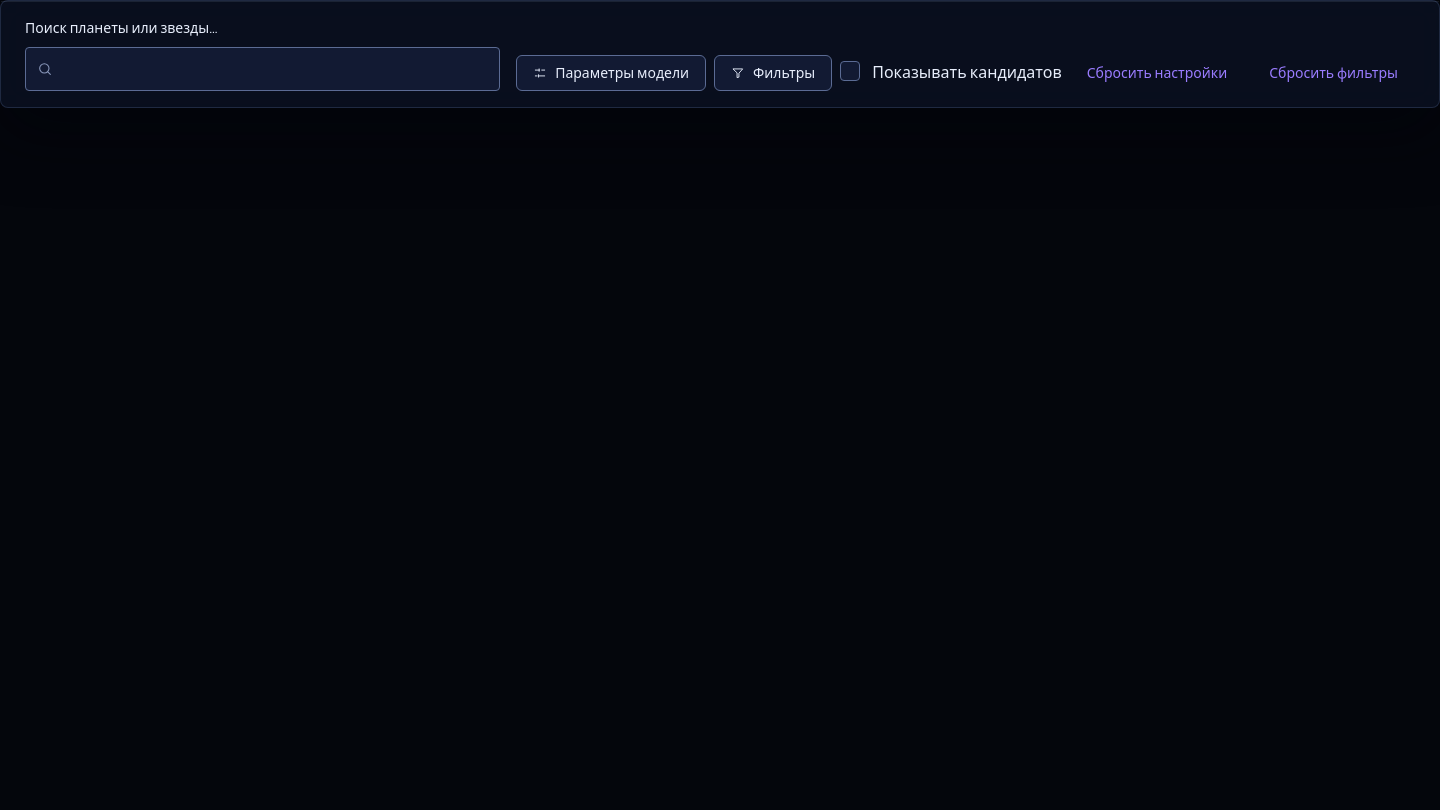
Test case: применение и бейдж › «Применить фильтры» недоступна без изменений, при ошибке и вызывает один compute
Later steps or results of the test are not shown.
Click the button "Фильтры". click: (773, 73)
box: [714,55,832,91]
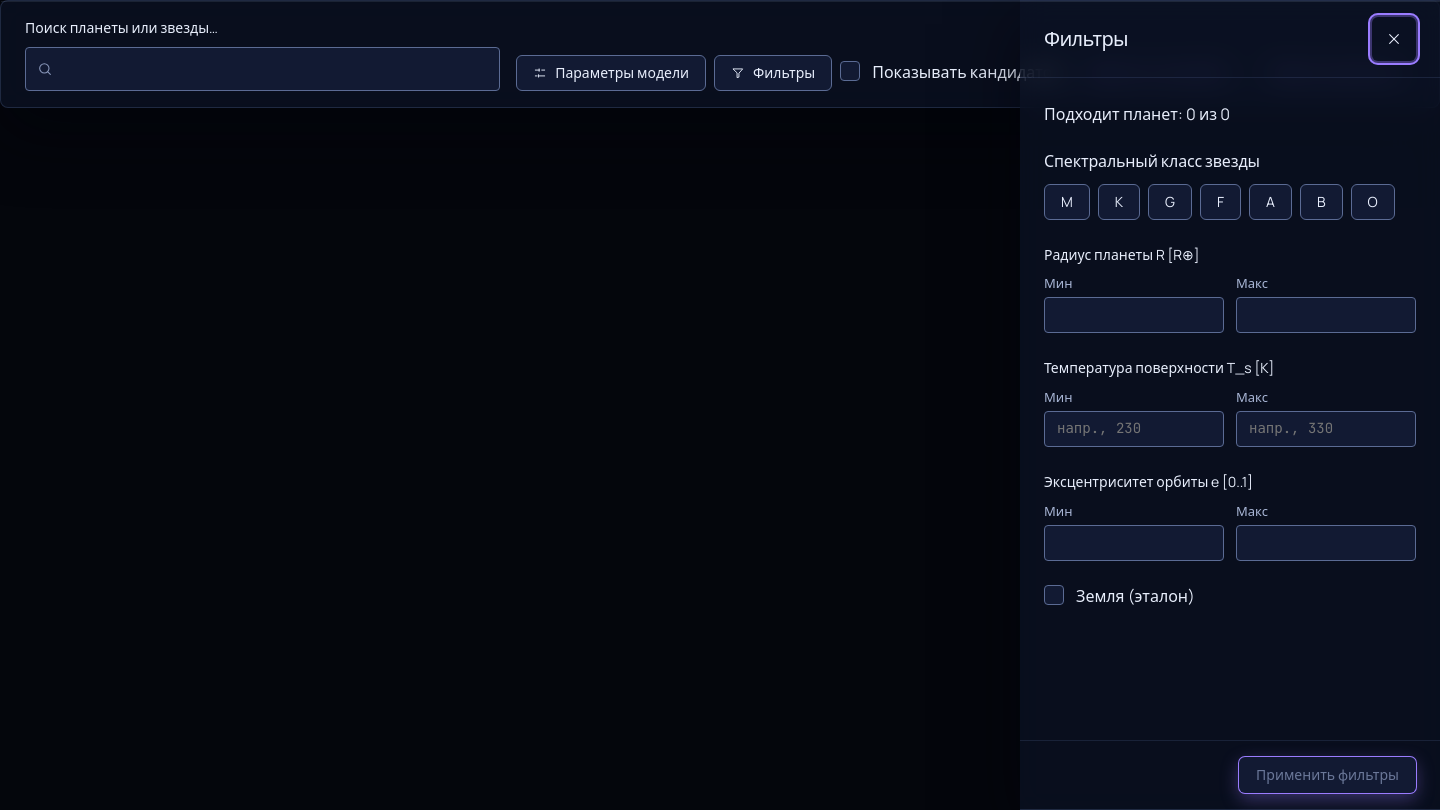
Expected: the button "Применить фильтры" is disabled, [1239,757,1416,793]
Type "1.5" into the field labelled "Мин" below "Радиус планеты R [R⊕]". click: (1134, 315)
box: [1044,297,1224,333]
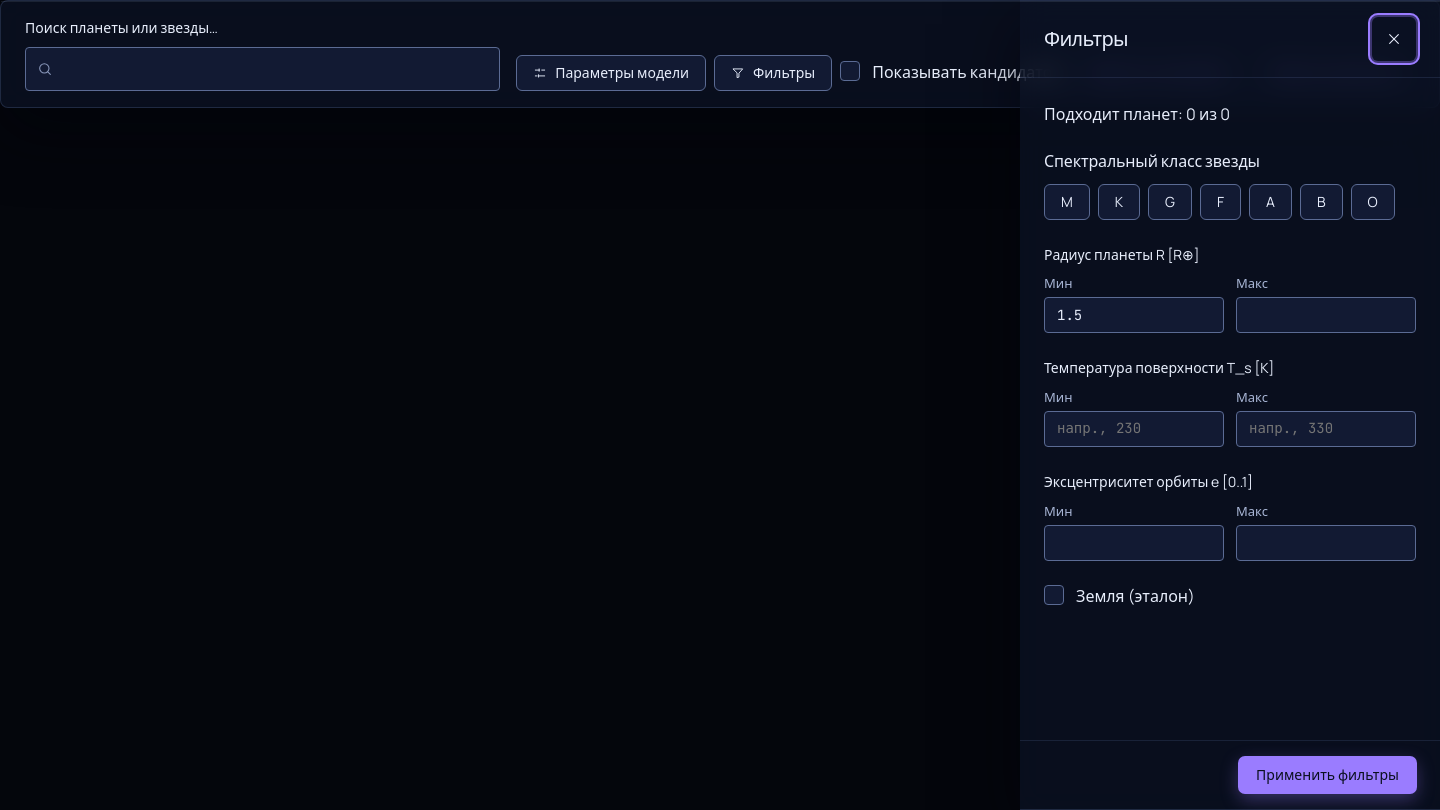
Type "330" into the field labelled "Макс" below "Температура поверхности T_s [K]". click: (1326, 429)
box: [1236,411,1416,447]
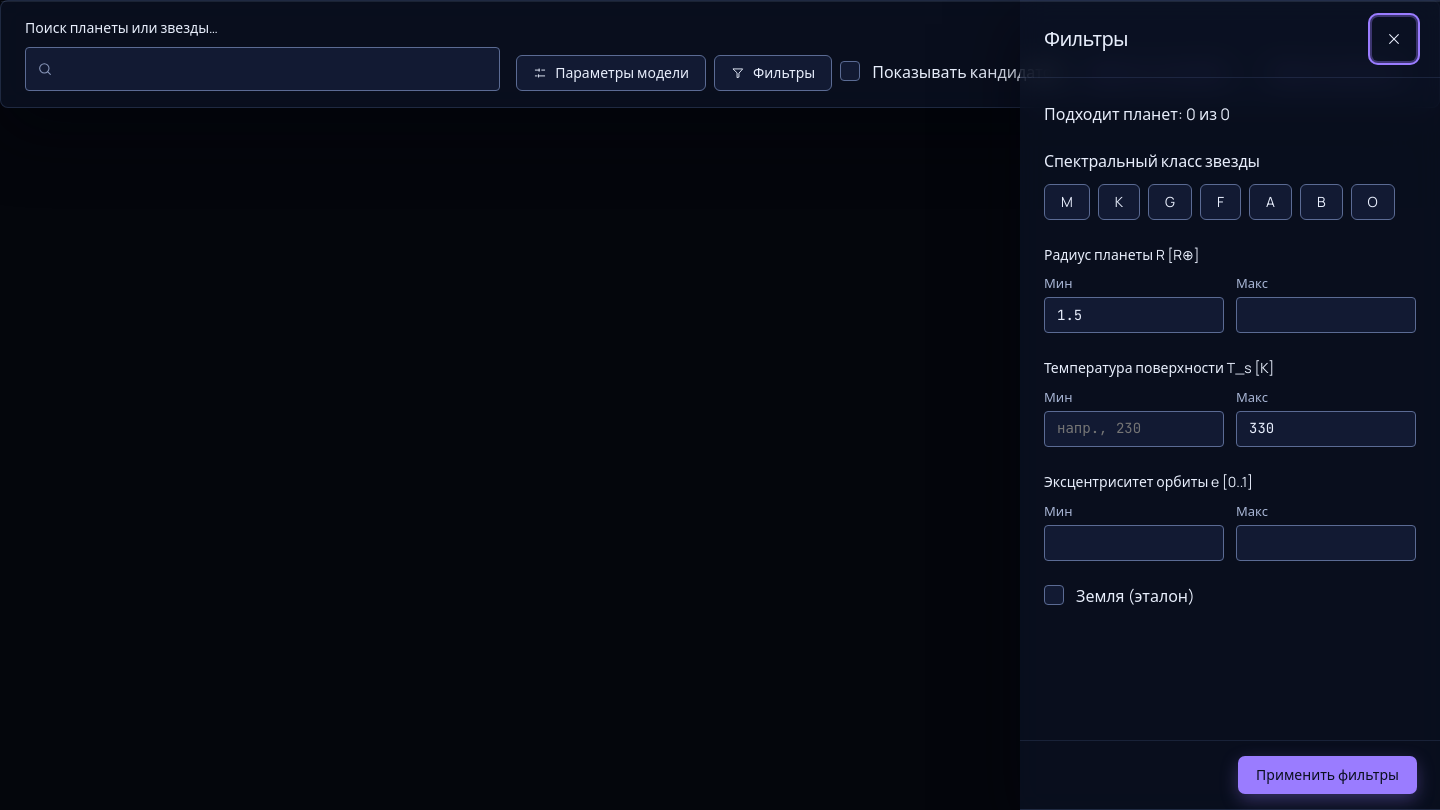
Expected: the button "Применить фильтры" is enabled, [1239,757,1416,793]
